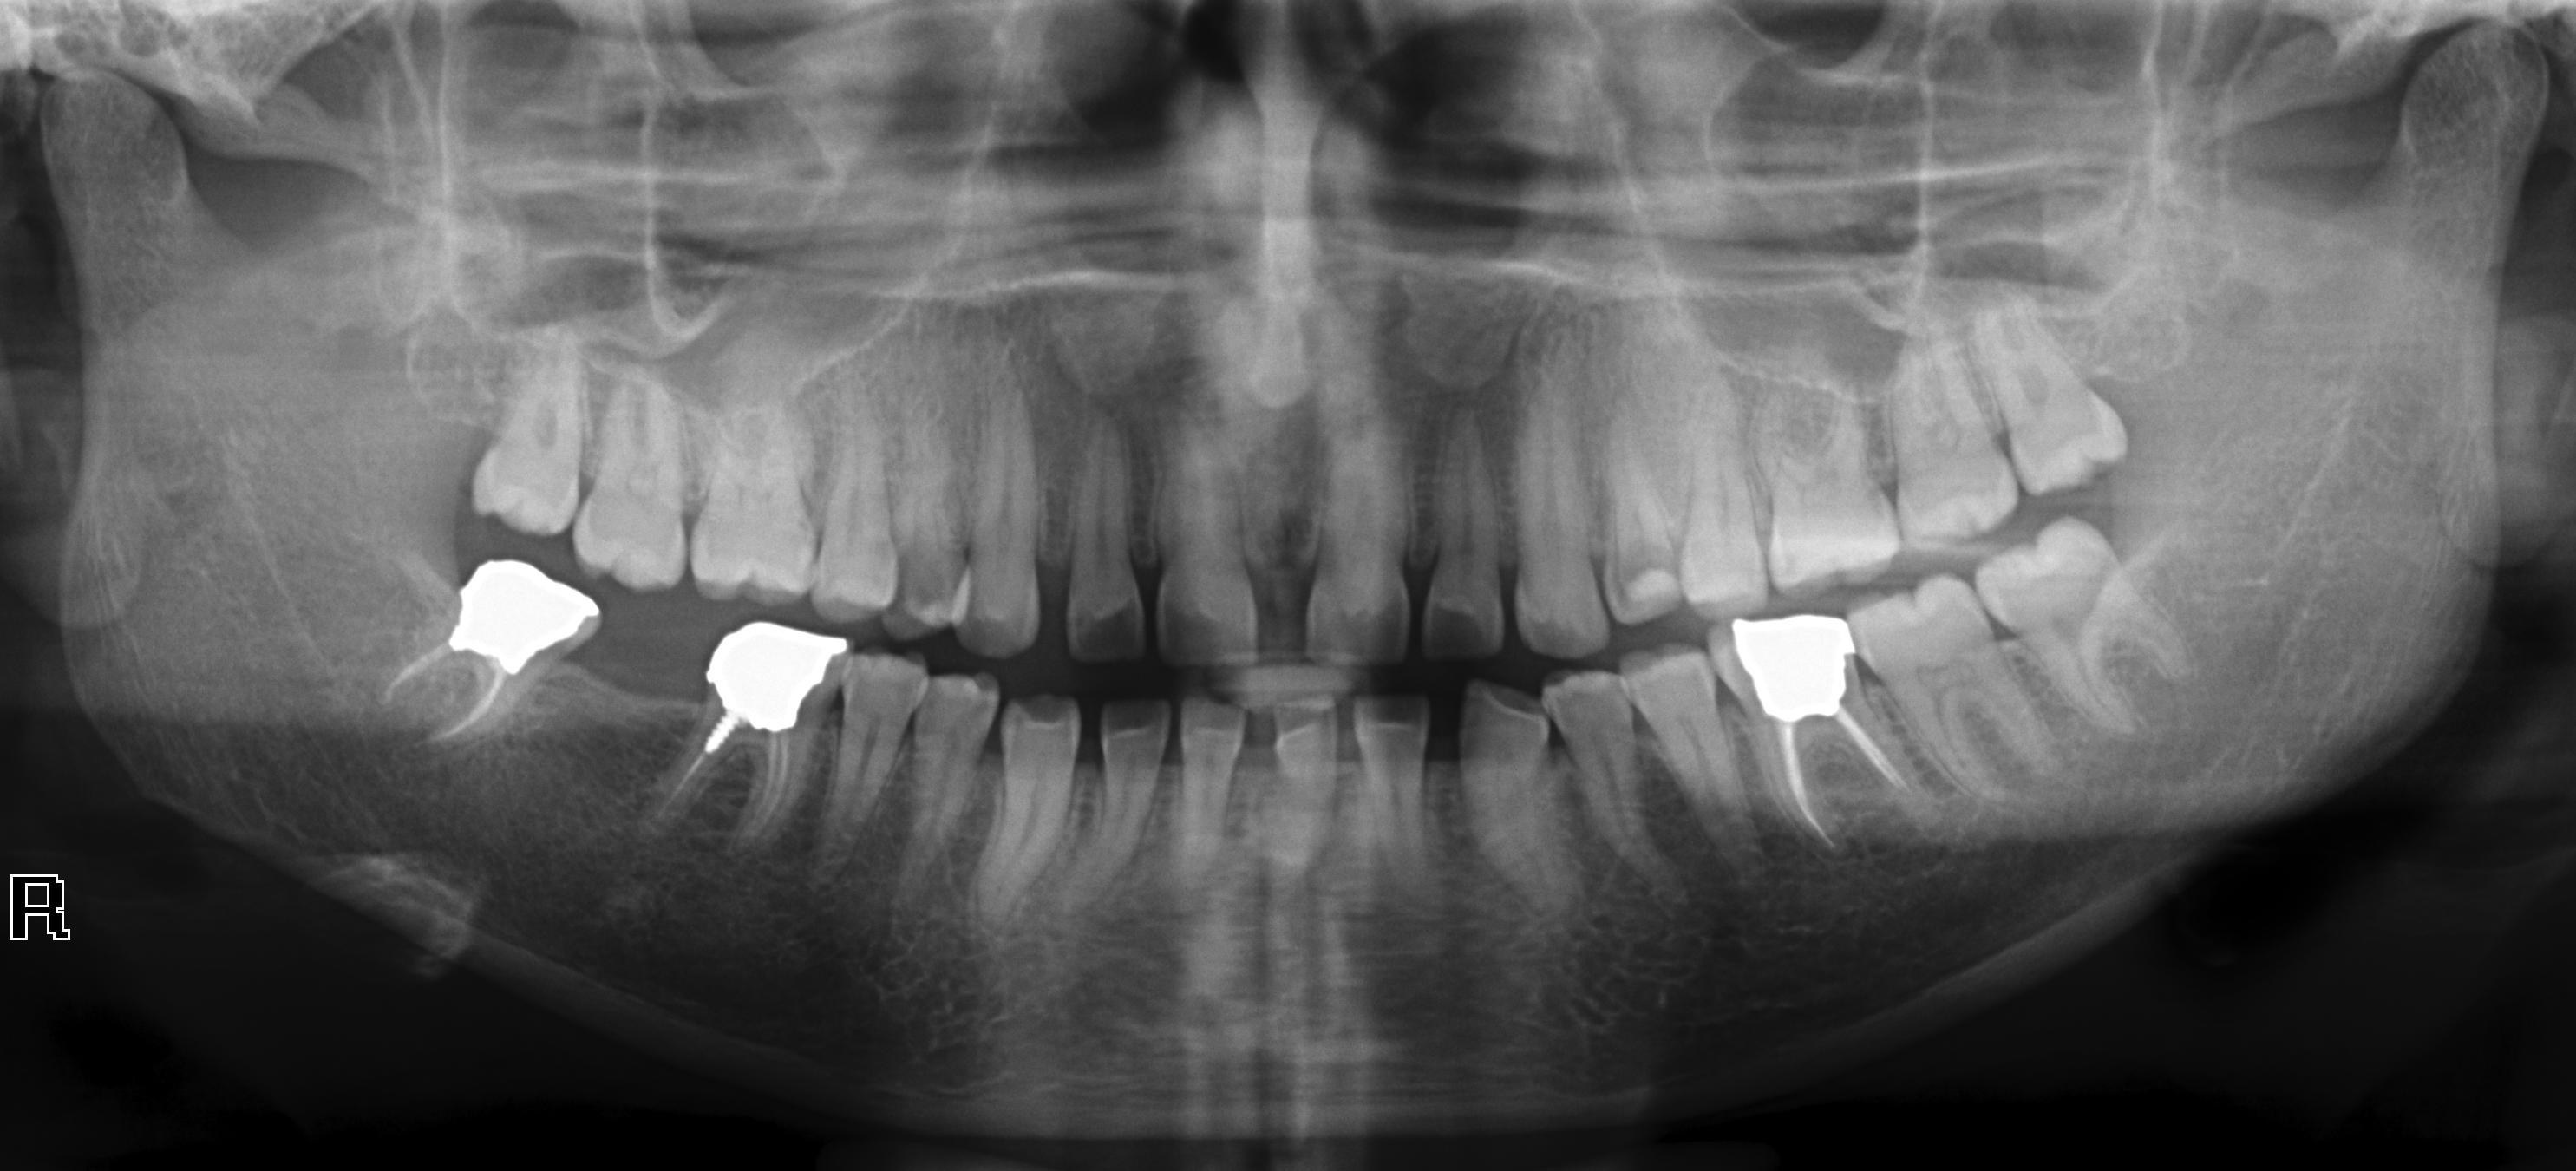Çürük: (682, 613, 872, 746), (430, 555, 611, 680), (1707, 606, 1870, 721)
Çürük Bölgesi: (1612, 545, 1682, 588)
